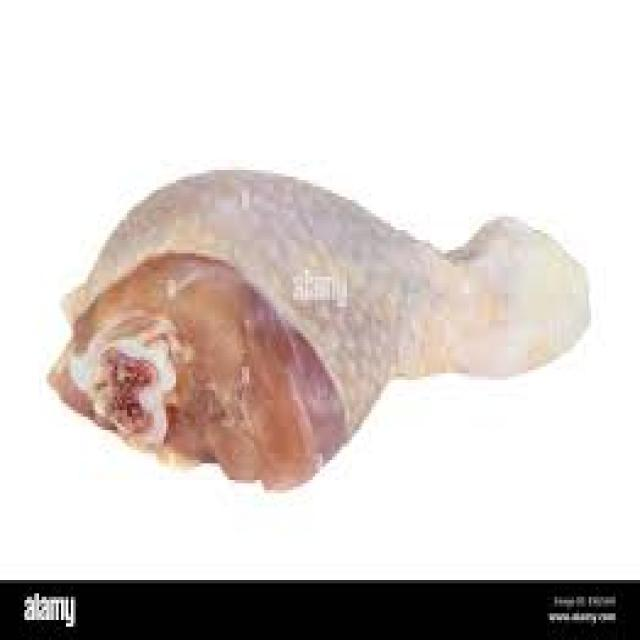leg: (48, 161, 604, 511)
